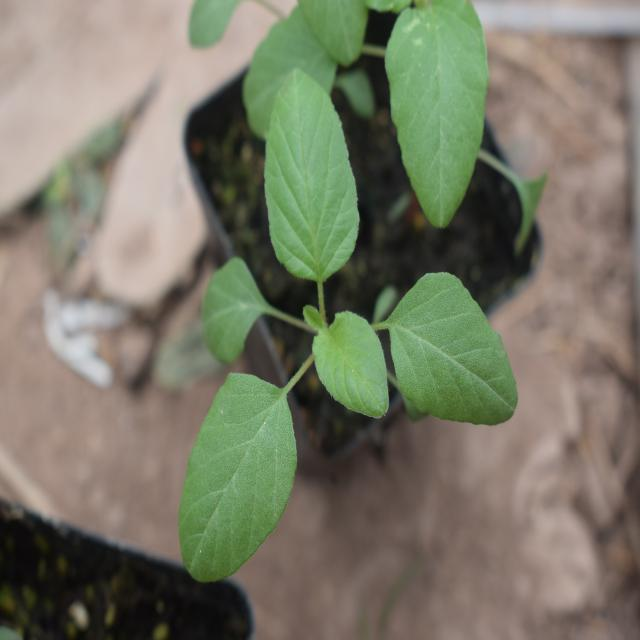pigweed: (155, 54, 500, 574)
